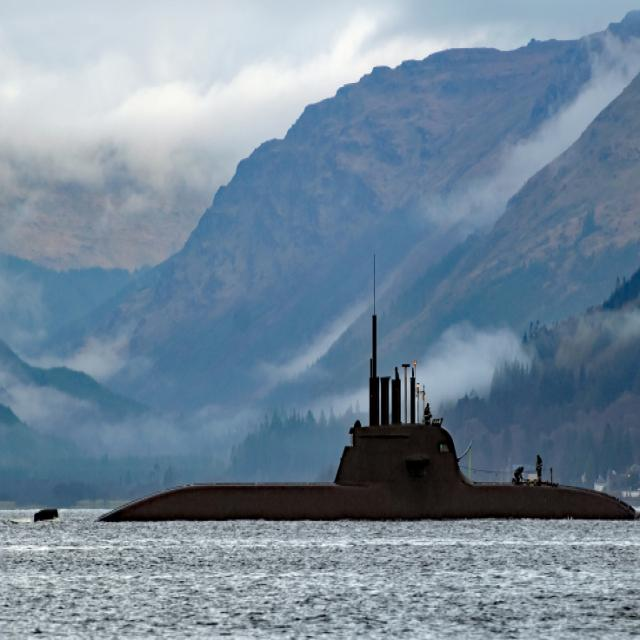submarine: (38, 306, 640, 519)
